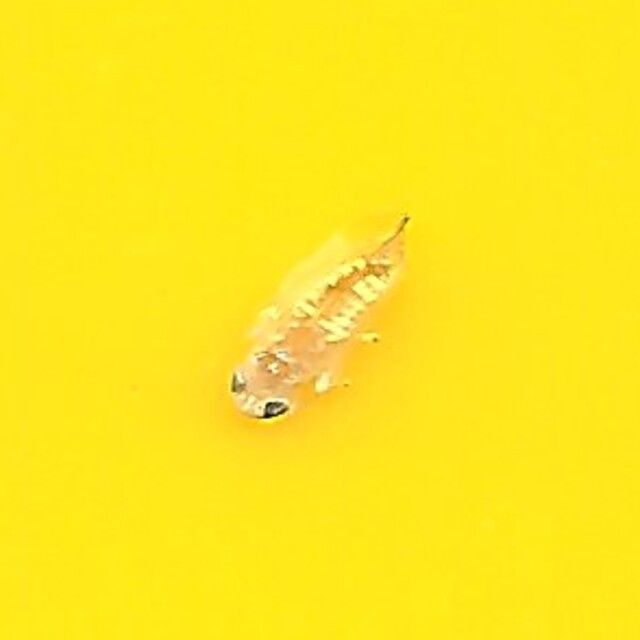Hemiptera: (218, 203, 422, 437)
